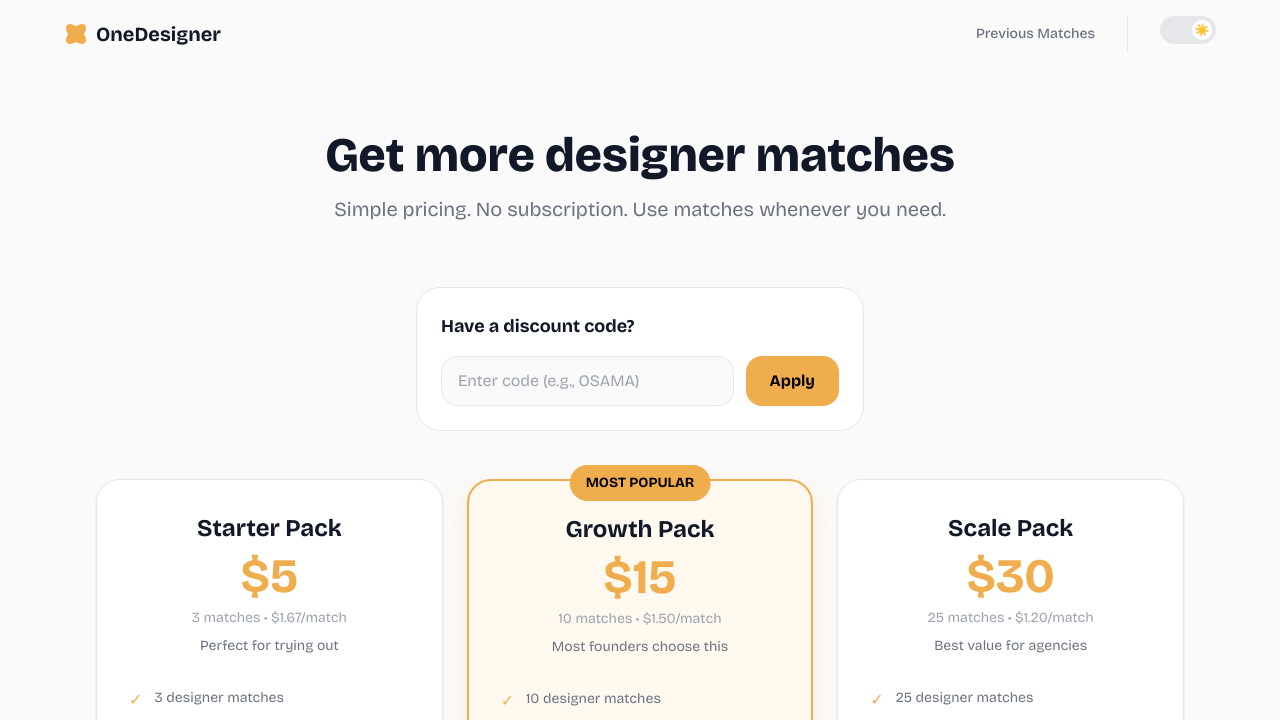
Test case: Simple OSAMA Discount Code UI Test › should display and apply OSAMA discount code correctly
Expected: the text "pricing" is shown, [334,197,946,221]
Expected: the element that starts with "MOST POPULAR" is shown, [467,479,814,719]
// Apply OSAMA discount code
In the field with test id "discount-code-input": (588, 381) [441,356,734,406], type "OSAMA"
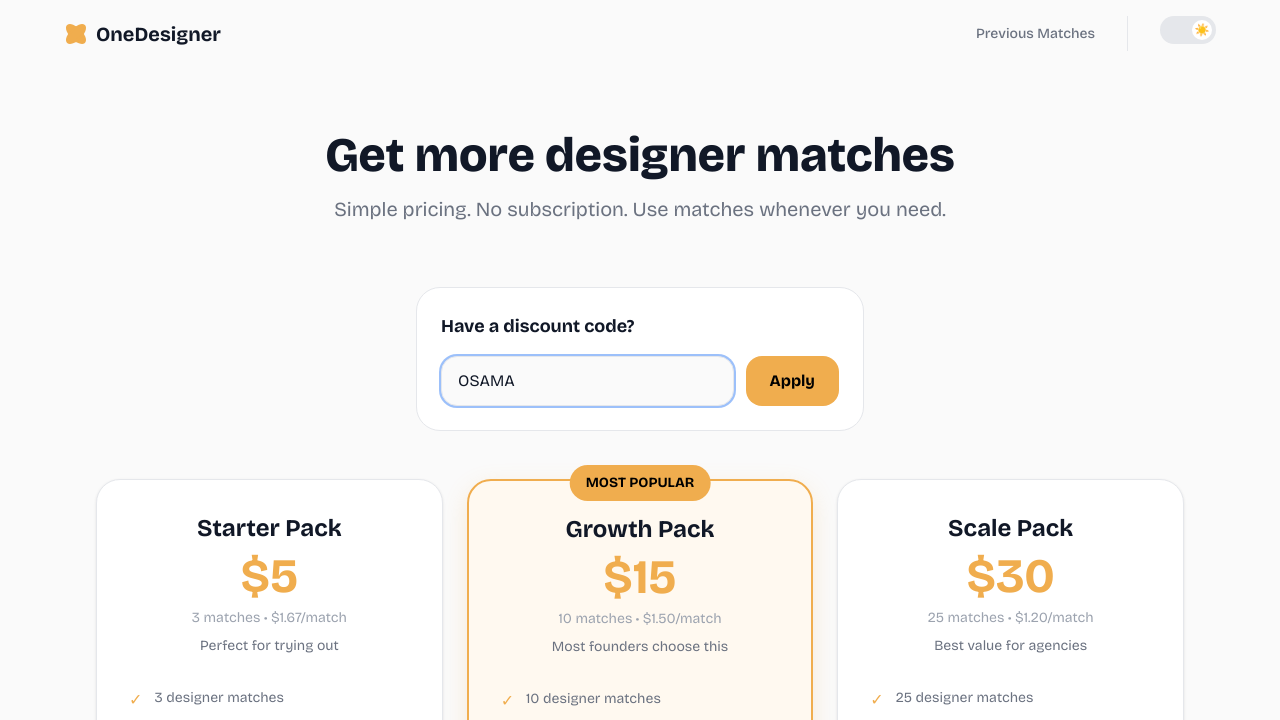
Click the button with test id "apply-discount-btn": (793, 381) [746,356,839,406]
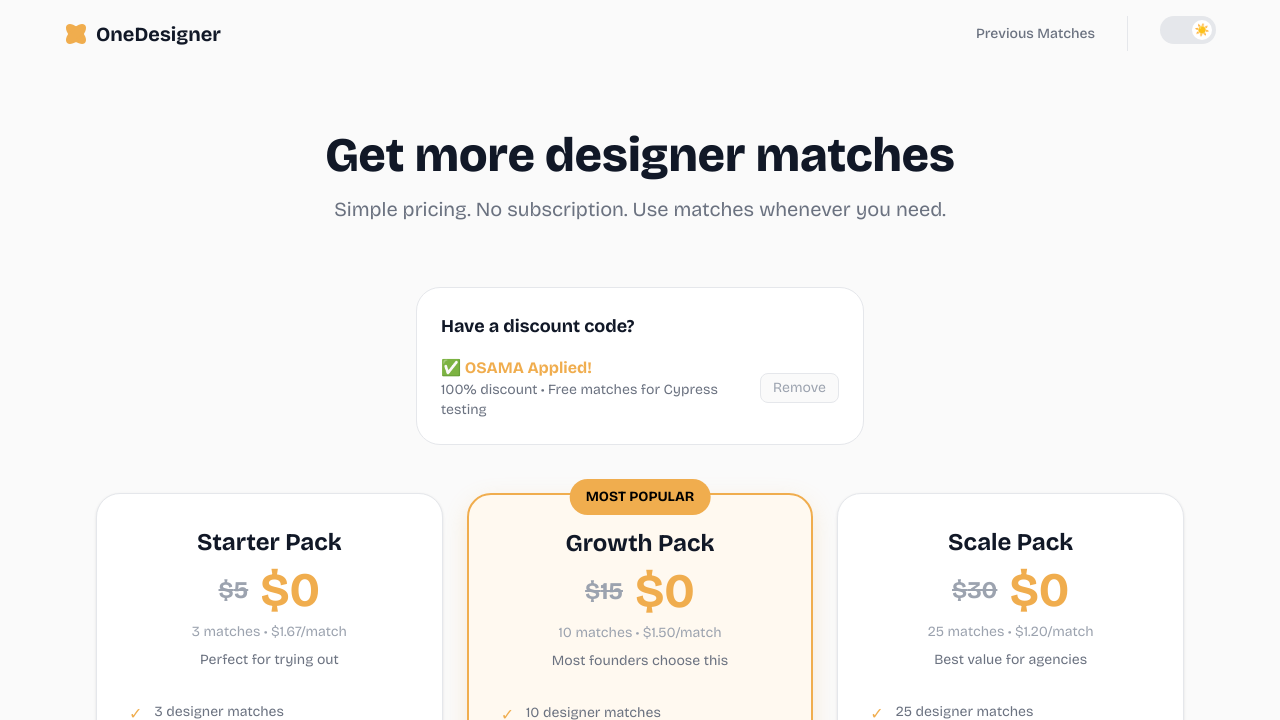
Now the text "✅ OSAMA Applied!" is shown, box [441,358,592,377]
Now the text "100% discount" is shown, box [441,380,760,420]
Now the text "Free matches for Cypress testing" is shown, box [441,381,718,418]
// Test removing discount
Click the button with test id "remove-discount-btn": (800, 388) [760,373,839,403]
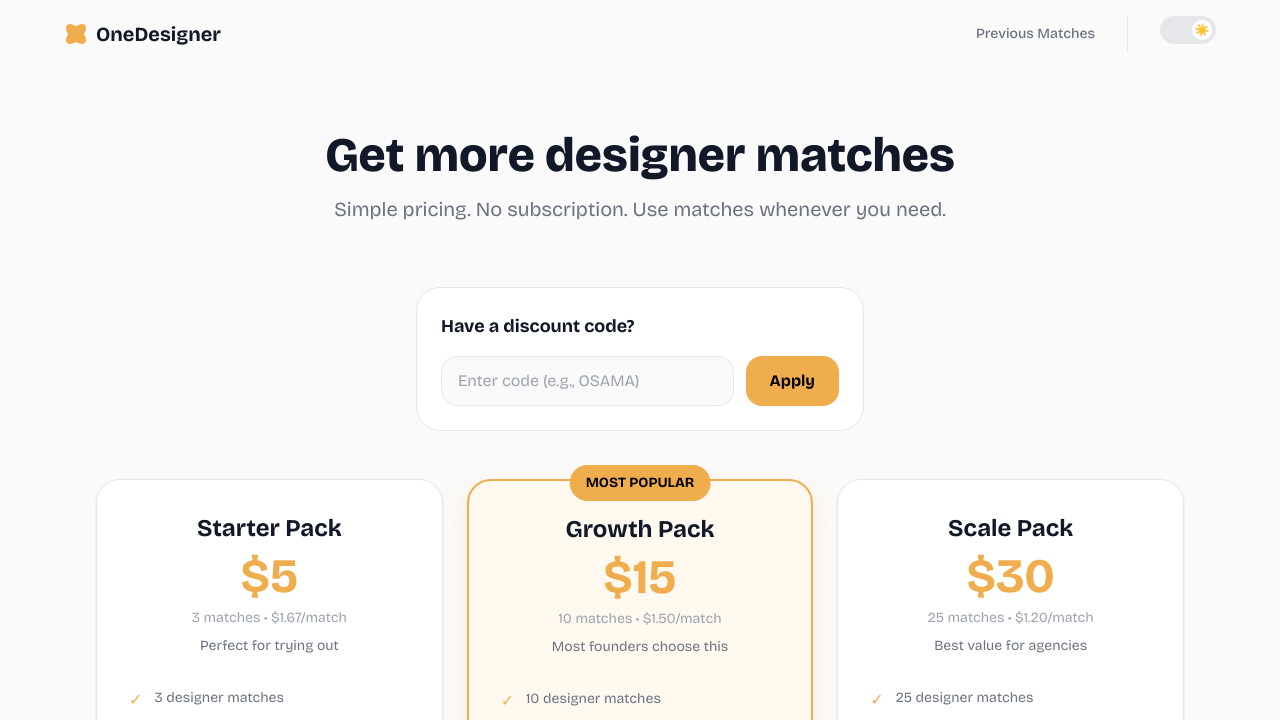
Expected: the text "$15" is shown, [603,553,677,601]
Now the text "✅ OSAMA Applied!" is gone
